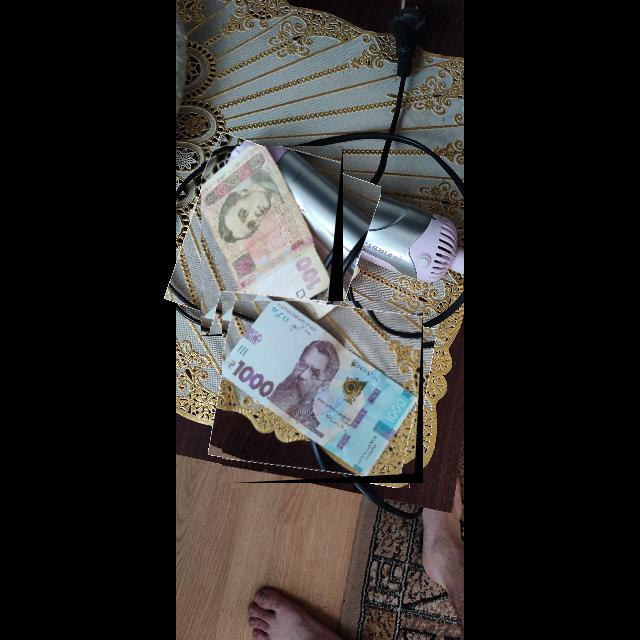1000uah: (222, 301, 420, 478)
100uah: (201, 146, 334, 333)
